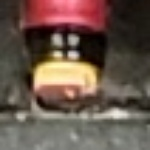bottle: (11, 12, 127, 129)
